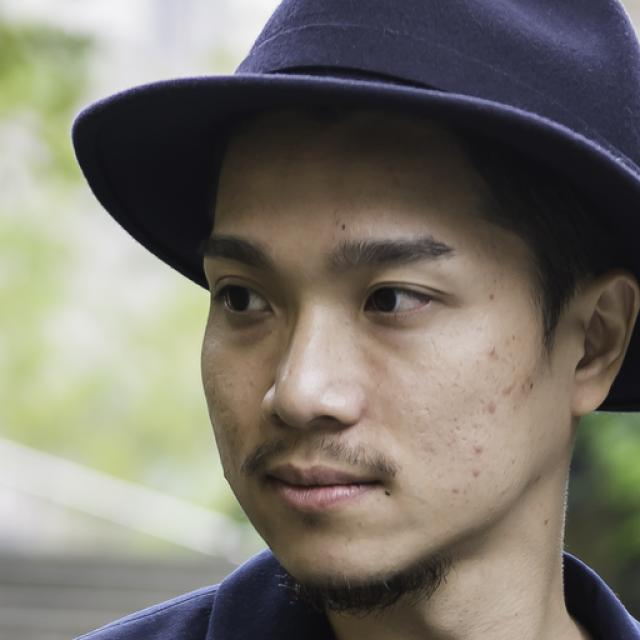Acne: (474, 341, 505, 362), (463, 441, 490, 461), (463, 460, 486, 483), (443, 482, 468, 500)
